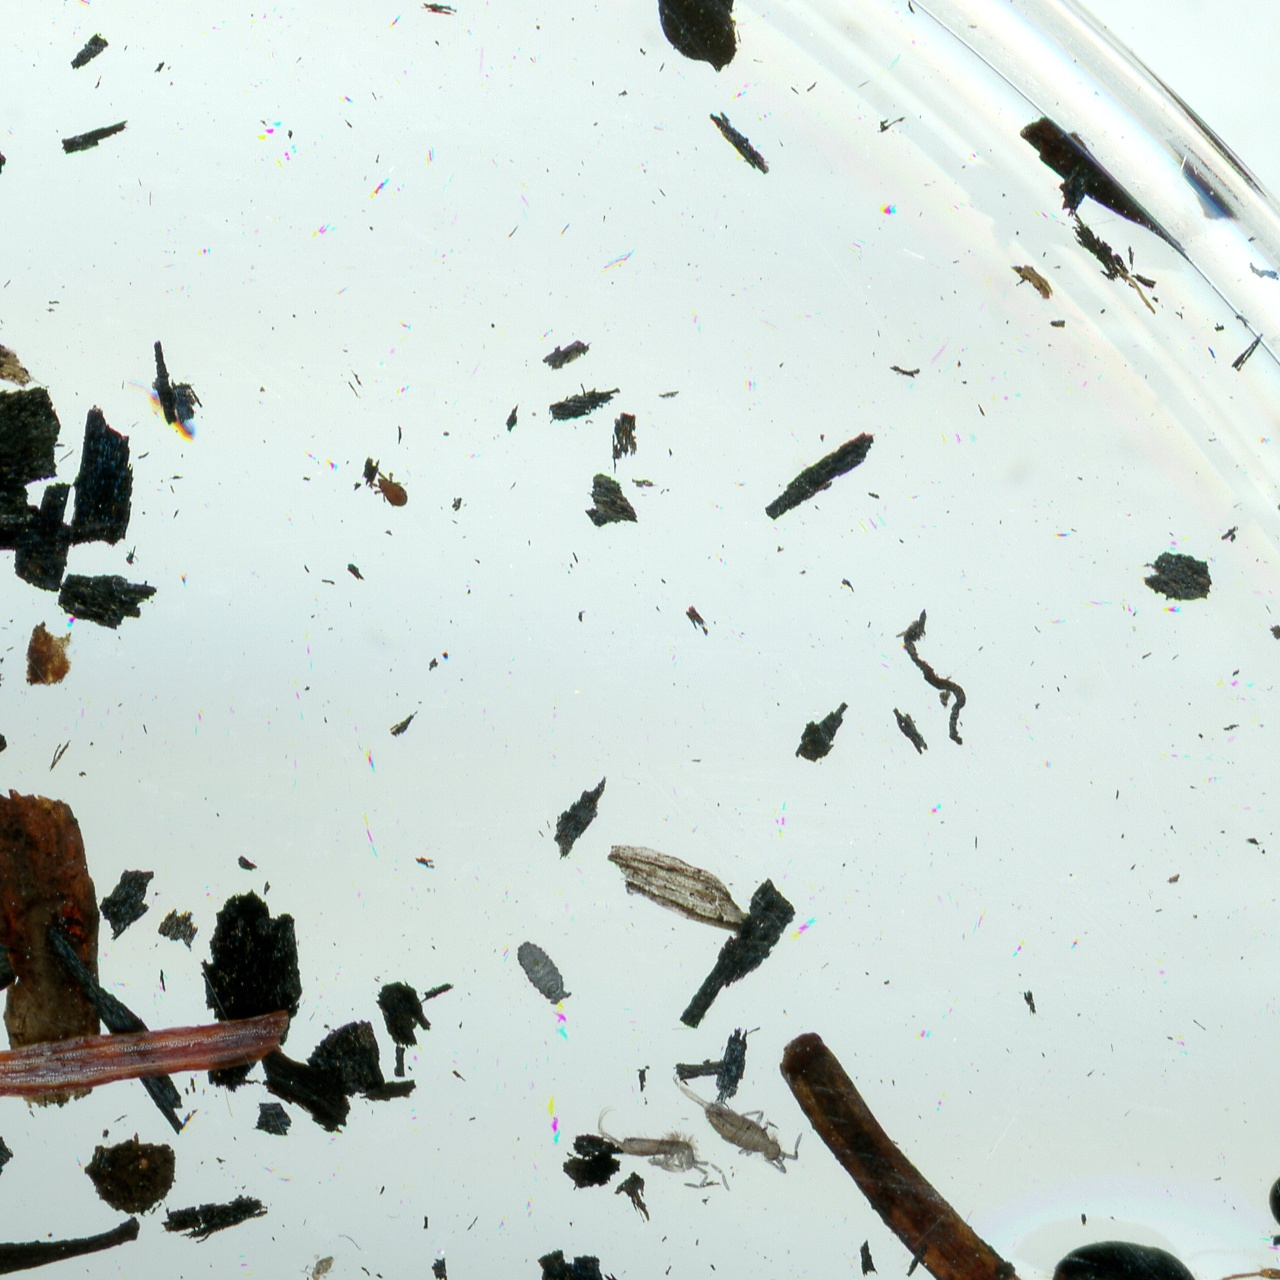arthropod: (651, 1065, 819, 1187), (1198, 1106, 1280, 1280), (594, 1104, 734, 1198), (507, 928, 579, 1015), (128, 375, 204, 445), (370, 467, 410, 510), (299, 1251, 339, 1280)
